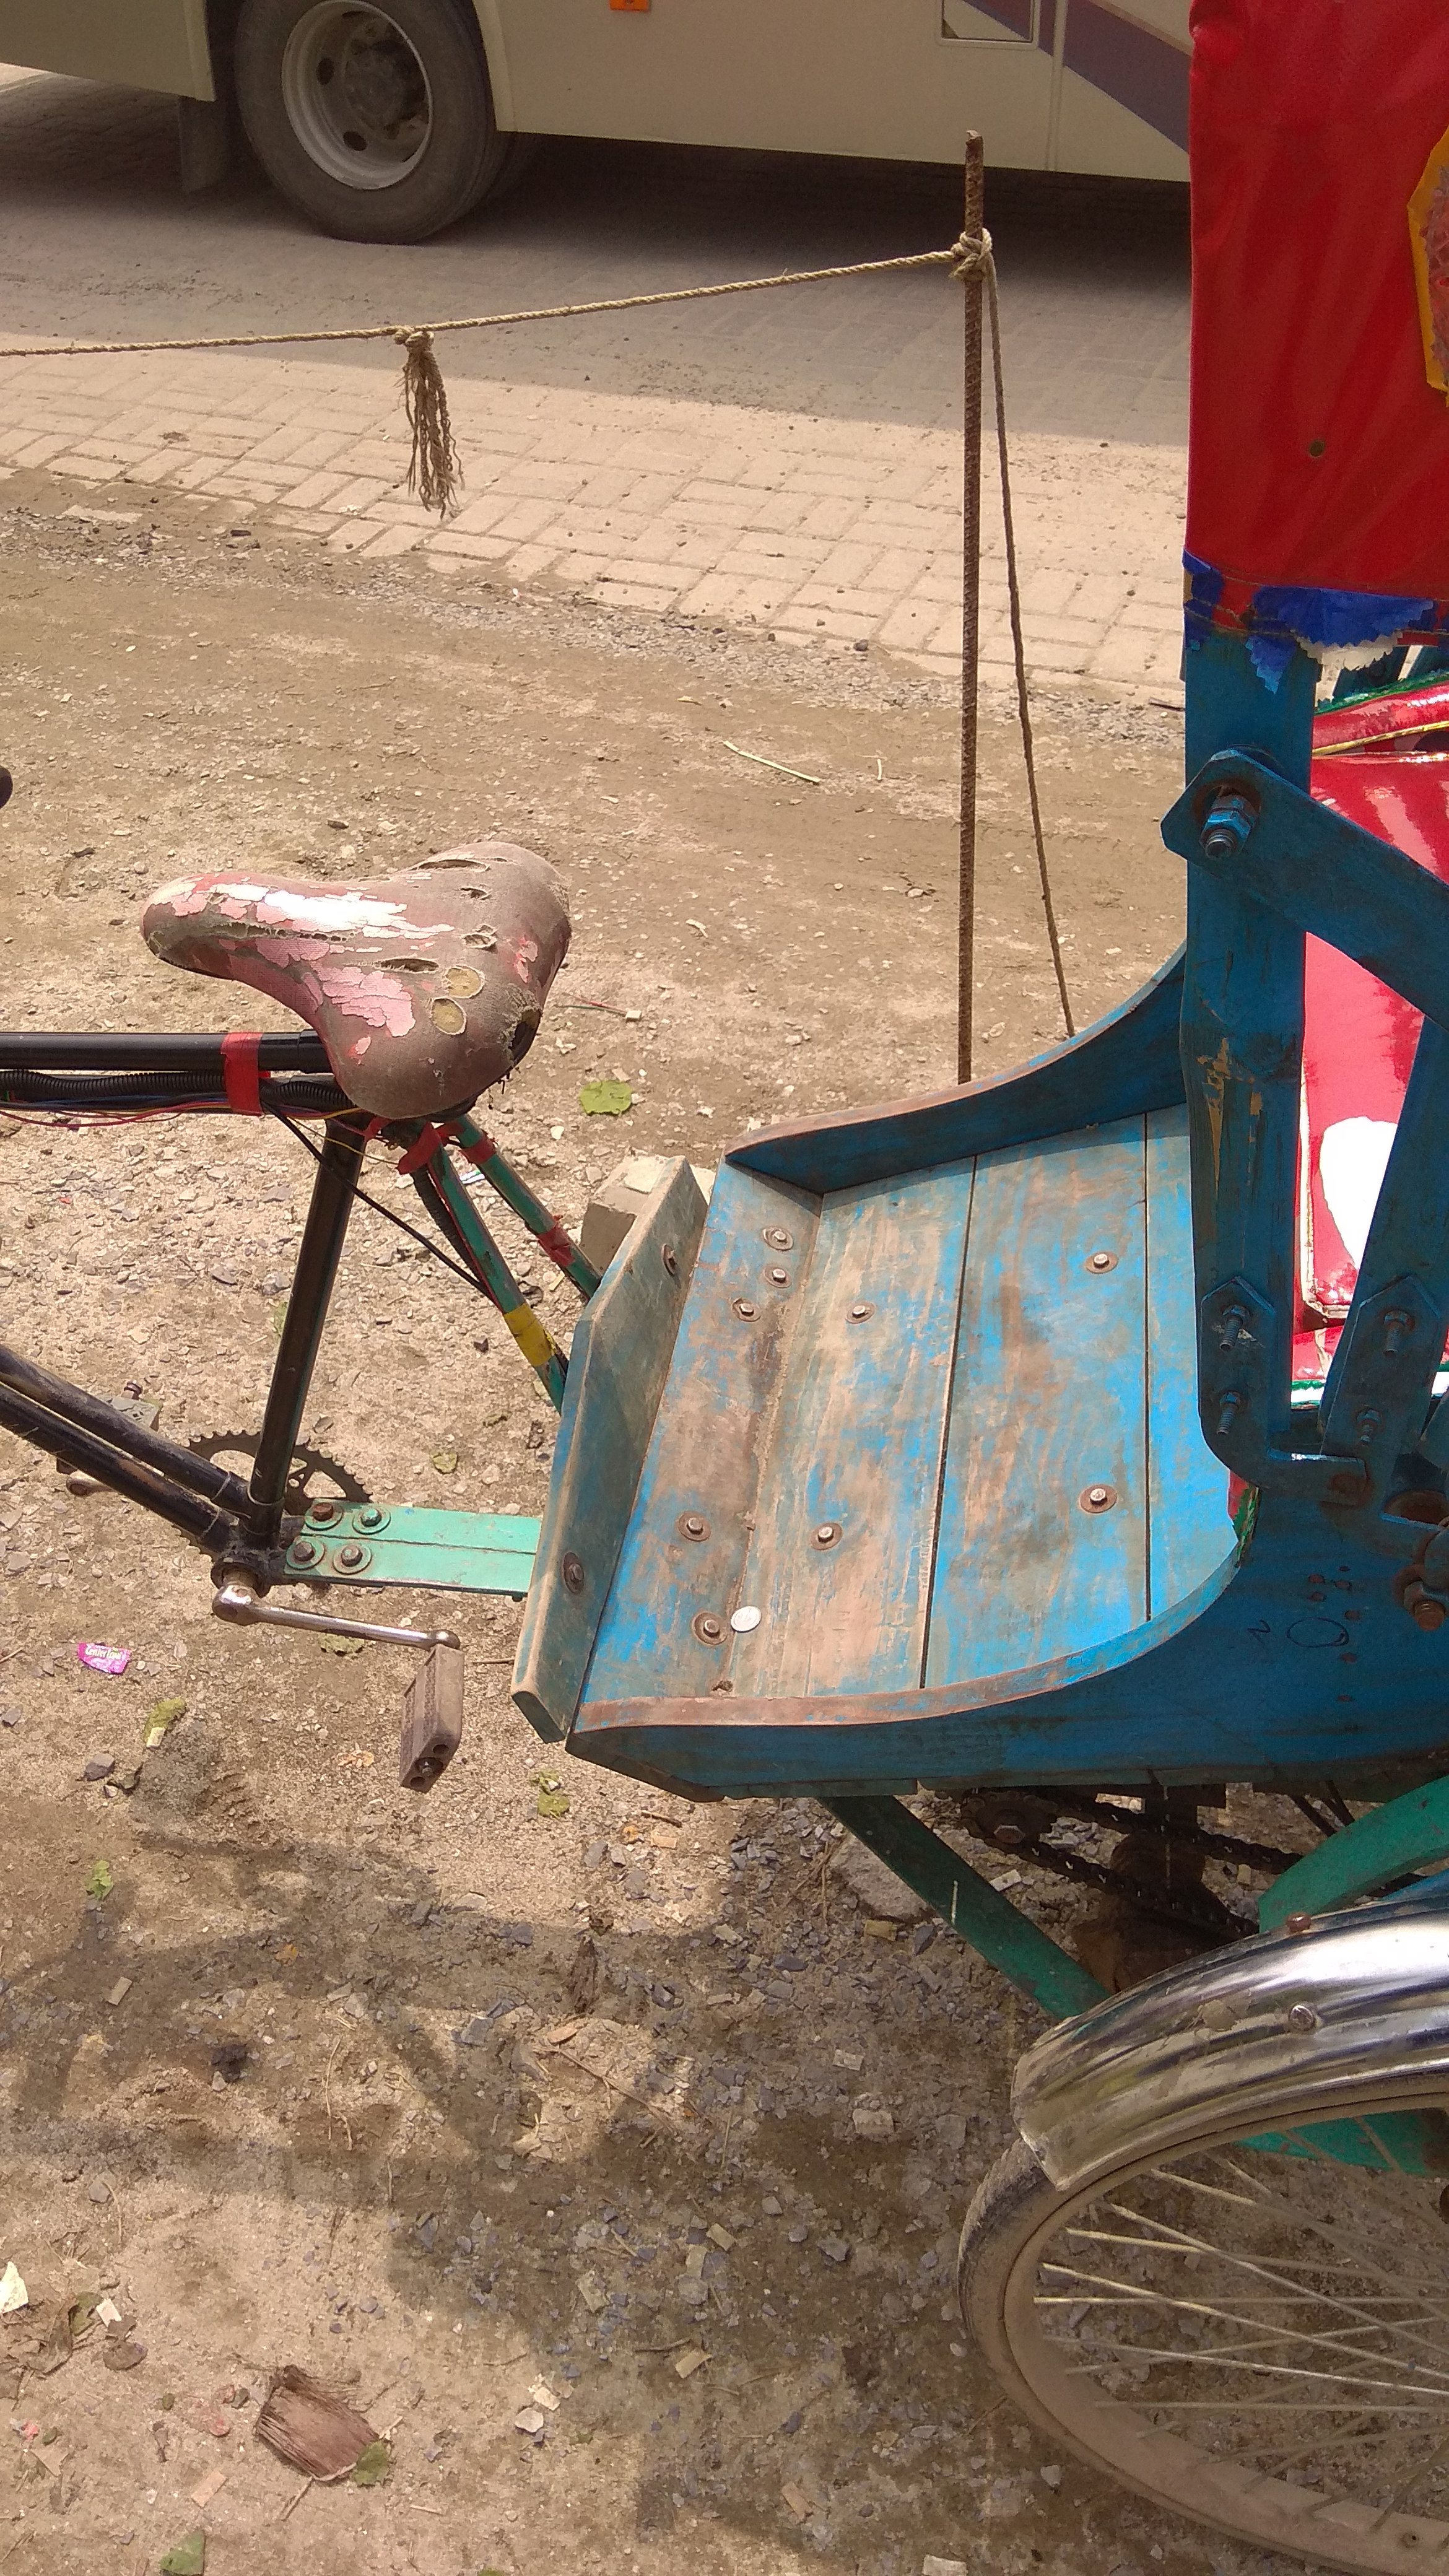Rickshaw: (110, 2, 1444, 2231)
